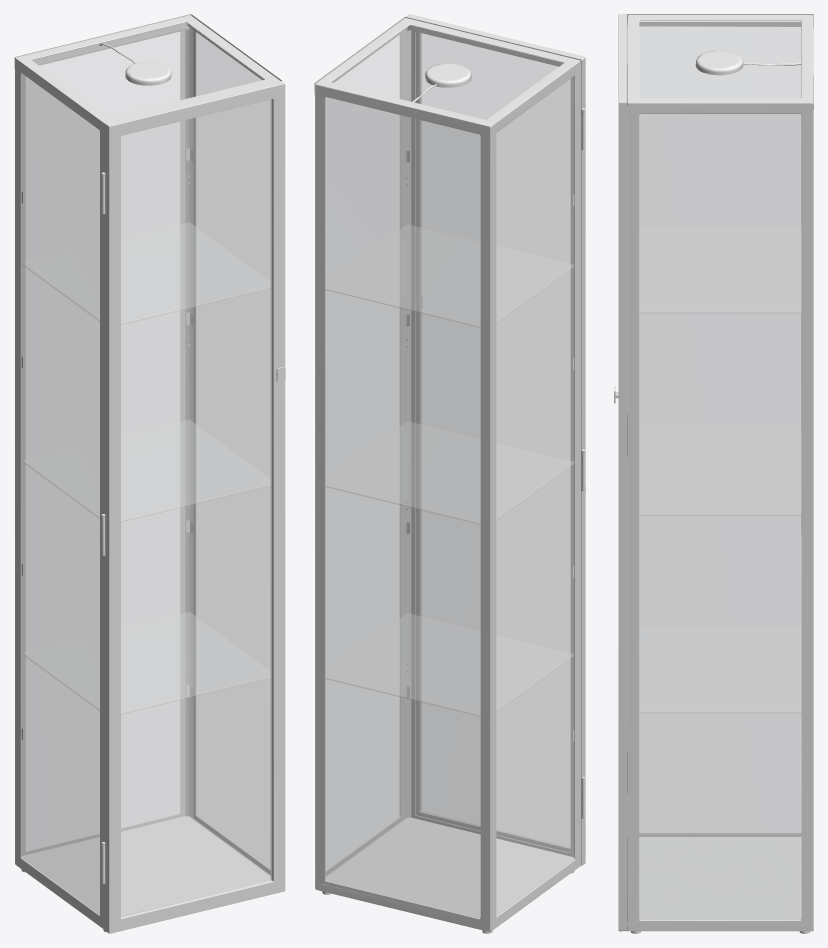
The model's file is 02 - BLÅLIDEN STRIMSÄV Glass-door cabinet with lighting - white.glb.
3 views of the same model, side by side, from view 1: azimuth 30°, elevation 25°; view 2: azimuth 150°, elevation 25°; view 3: azimuth 270°, elevation 25° (orthographic). The views are drawn at different scales.
Parts seen in each view (by area): view 1: Mesh_5, Mesh_0, Mesh_2, Mesh_6, Mesh_4, Mesh_3, Mesh_1; view 2: Mesh_2, Mesh_0, Mesh_5, Mesh_6, Mesh_1, Mesh_3, Mesh_4; view 3: Mesh_0, Mesh_6, Mesh_1, Mesh_3, Mesh_4.
Boxes of the visible parts, left/top/right/bottom form: Mesh_5: left=121, top=99, right=271, bottom=916; Mesh_0: left=21, top=28, right=270, bottom=914; Mesh_2: left=22, top=23, right=188, bottom=855; Mesh_6: left=14, top=14, right=285, bottom=933; Mesh_4: left=22, top=223, right=270, bottom=324; Mesh_3: left=22, top=612, right=270, bottom=714; Mesh_1: left=22, top=420, right=270, bottom=521; Mesh_2: left=325, top=97, right=480, bottom=918; Mesh_0: left=326, top=29, right=573, bottom=915; Mesh_5: left=416, top=32, right=570, bottom=852; Mesh_6: left=314, top=14, right=585, bottom=933; Mesh_1: left=326, top=421, right=573, bottom=524; Mesh_3: left=326, top=613, right=573, bottom=716; Mesh_4: left=326, top=224, right=573, bottom=327; Mesh_0: left=639, top=26, right=801, bottom=919; Mesh_6: left=614, top=14, right=813, bottom=933; Mesh_1: left=639, top=430, right=801, bottom=515; Mesh_3: left=639, top=627, right=801, bottom=712; Mesh_4: left=639, top=228, right=801, bottom=313.
Size of the model in its own units: 0.3512 by 1.51 by 0.328.
Materials: 2 (2 with a texture image).
